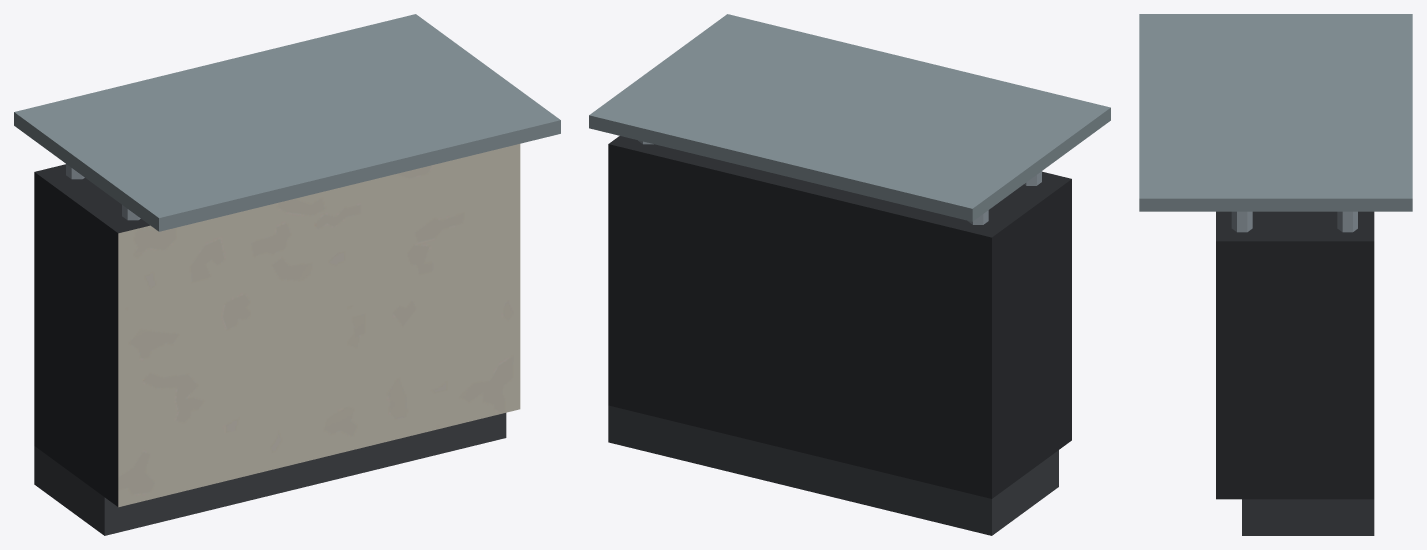
Rendered from SM_Prop_Bar_02.obj.
3 views of the same model, side by side, from view 1: azimuth 30°, elevation 25°; view 2: azimuth 150°, elevation 25°; view 3: azimuth 270°, elevation 25° (orthographic). The views are drawn at different scales.
Parts seen in each view (by area): view 1: SM_Prop_Bar_02_2, SM_Prop_Bar_02_0, SM_Prop_Bar_02_1; view 2: SM_Prop_Bar_02_1, SM_Prop_Bar_02_0; view 3: SM_Prop_Bar_02_0, SM_Prop_Bar_02_1.
Boxes of the visible parts, x1,y1,x2,y2 form: SM_Prop_Bar_02_2: (118, 144, 520, 507); SM_Prop_Bar_02_0: (14, 14, 560, 231); SM_Prop_Bar_02_1: (34, 164, 506, 535); SM_Prop_Bar_02_1: (608, 136, 1071, 535); SM_Prop_Bar_02_0: (589, 14, 1110, 221); SM_Prop_Bar_02_0: (1139, 14, 1412, 211); SM_Prop_Bar_02_1: (1216, 211, 1374, 535).
Bounding box in the file's own units: 1.25 × 1.06 × 0.7815.
3 materials, 3 textured.
